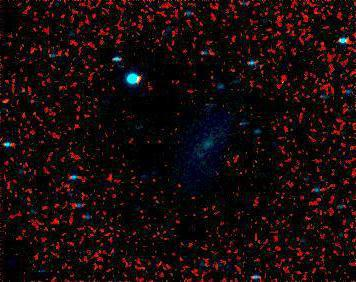star: (0, 84, 21, 114)
